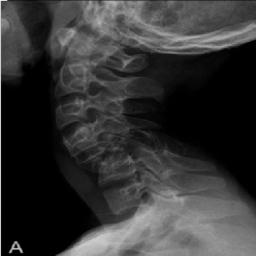cancer: (82, 145, 138, 175)
